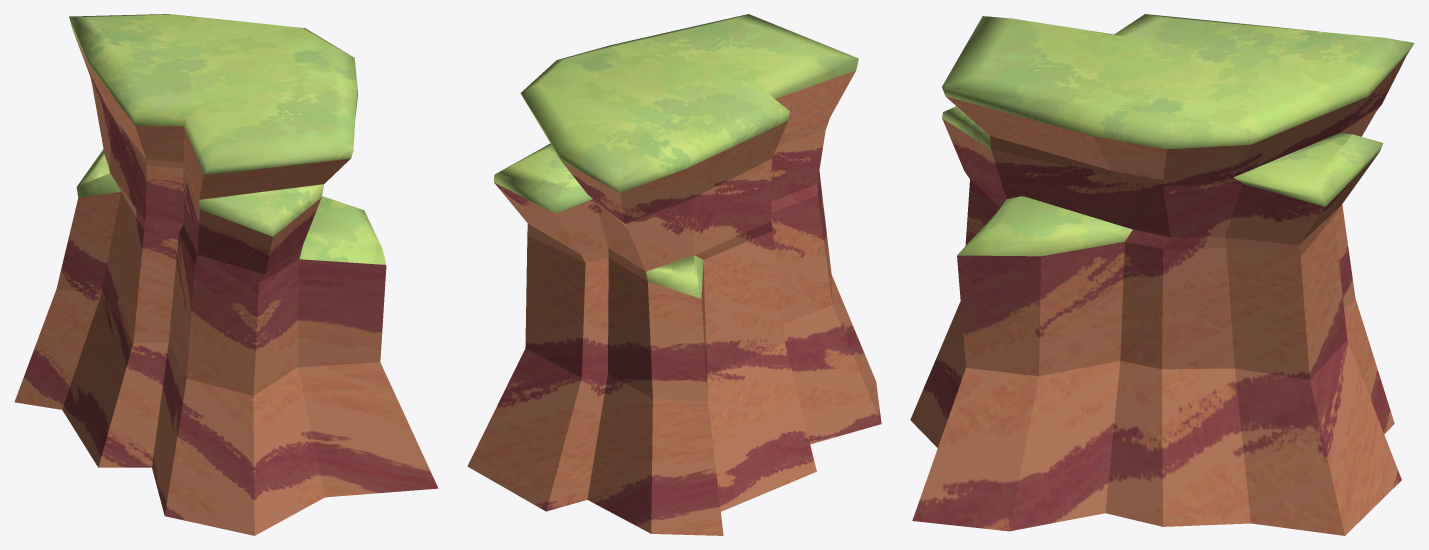
The model's file is rock6.fbx.
3 views of the same model, side by side, from view 1: azimuth 30°, elevation 25°; view 2: azimuth 150°, elevation 25°; view 3: azimuth 270°, elevation 25° (orthographic). The views are drawn at different scales.
Visible parts, largest first — view 1: rock6; view 2: rock6; view 3: rock6.
Boxes of the visible parts, box(x1,y1,x2,y2) form: rock6: box(14, 14, 438, 535); rock6: box(467, 14, 881, 535); rock6: box(910, 14, 1414, 535).
Size of the model in its own units: 732 by 949 by 1065.
